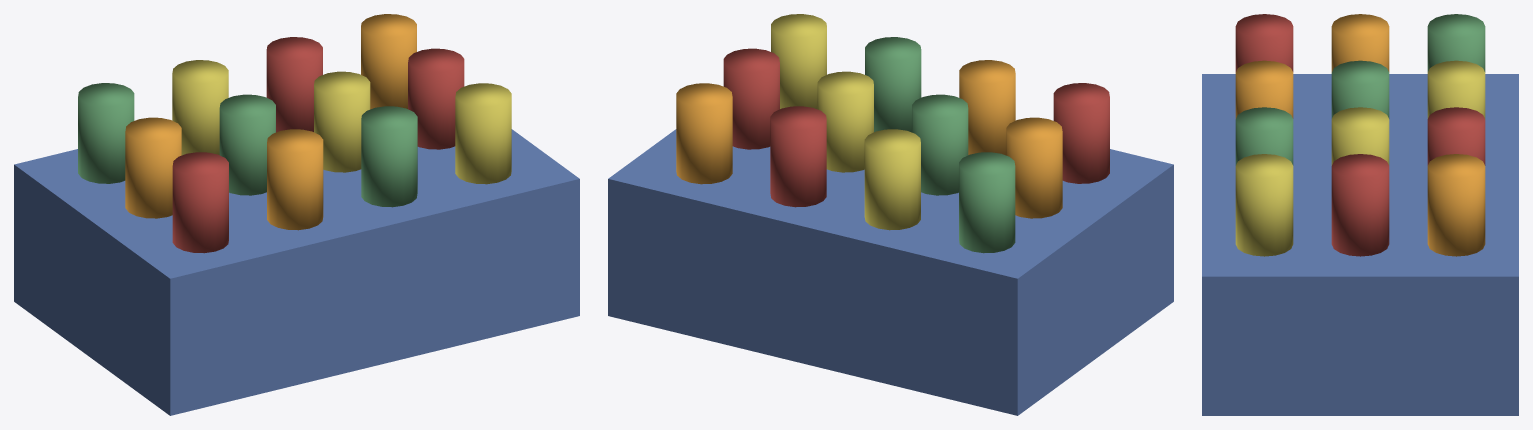
Rendered from prop_juice_case.glb.
The picture shows the model from 3 angles, left to right: view 1: azimuth 30°, elevation 25°; view 2: azimuth 150°, elevation 25°; view 3: azimuth 270°, elevation 25°; orthographic projection.
Parts seen in each view (by area): view 1: juice_case; view 2: juice_case; view 3: juice_case.
Boxes of the visible parts, bbox=[...] form: juice_case: bbox=[14, 14, 579, 415]; juice_case: bbox=[608, 14, 1173, 415]; juice_case: bbox=[1202, 14, 1518, 415].
Size of the model in its own units: 1 by 0.5 by 0.66.
